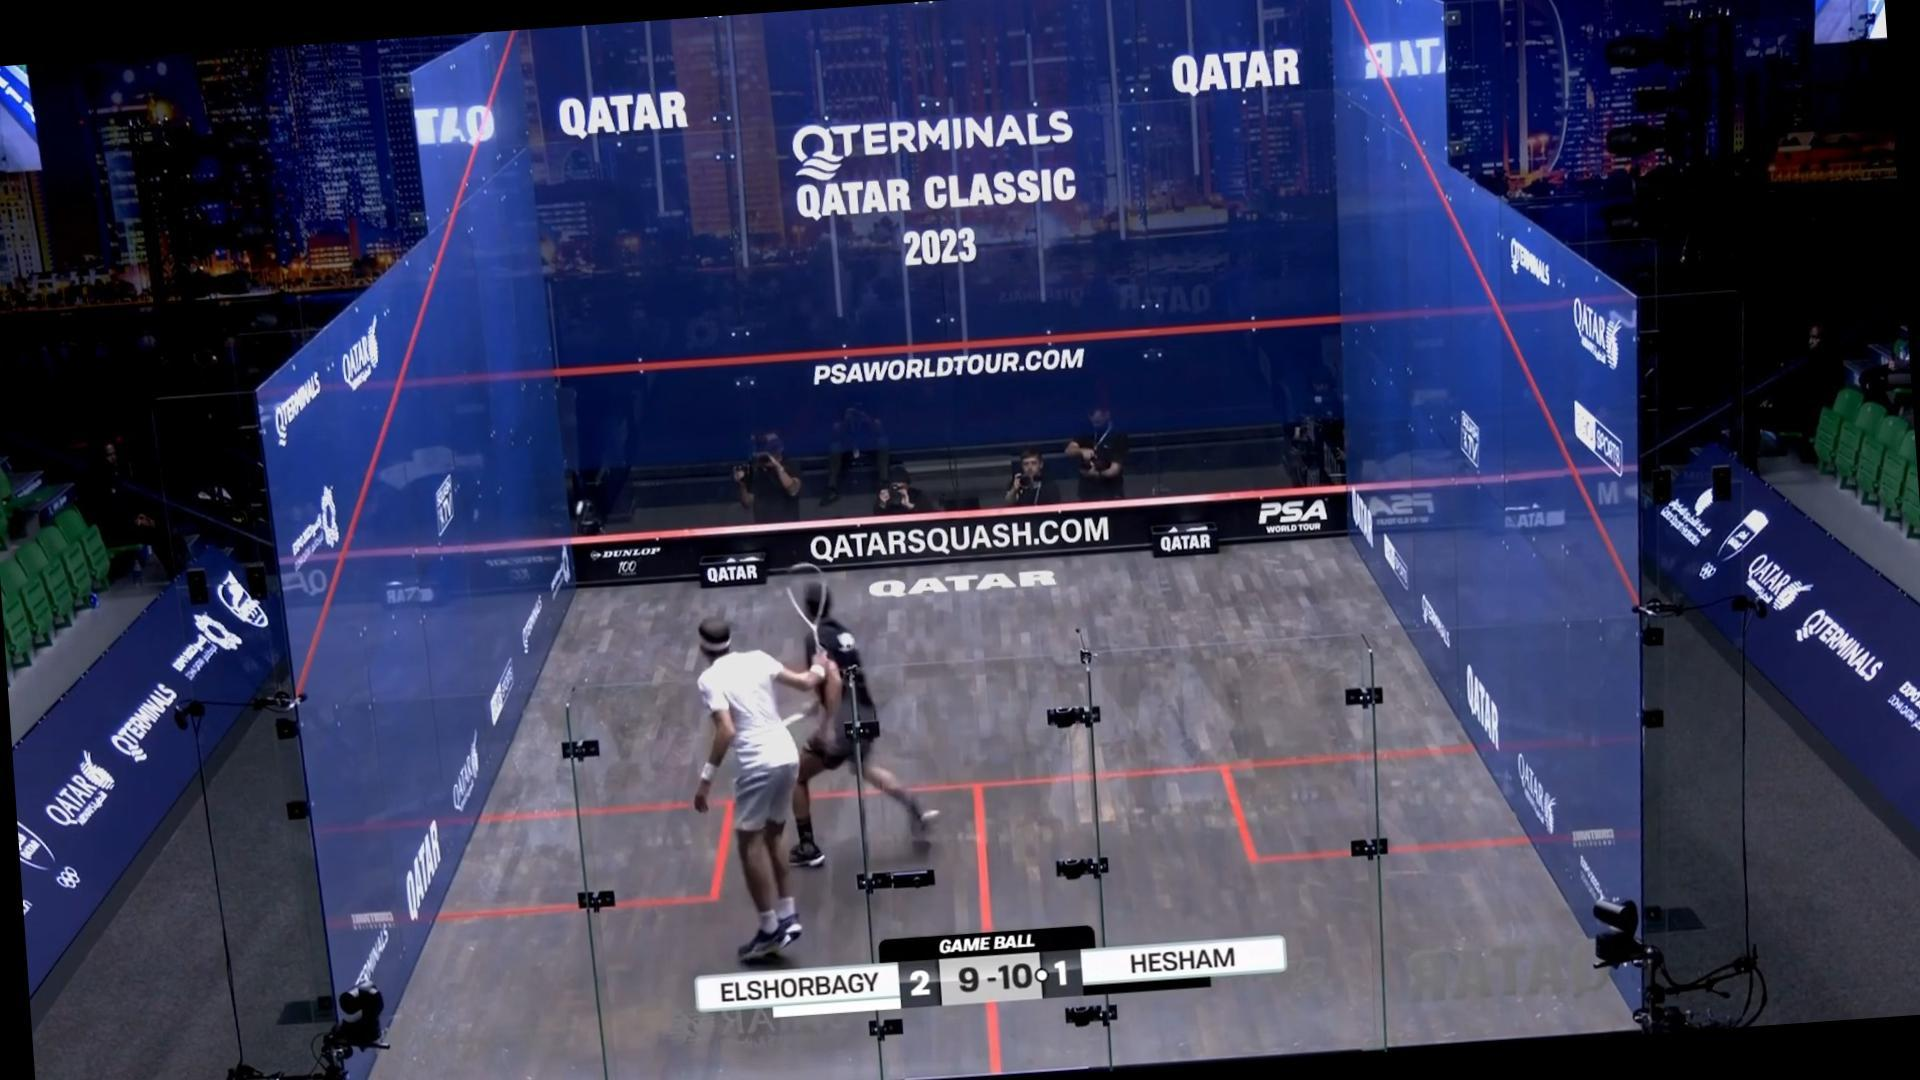Squash-Ball: (563, 483, 600, 533)
